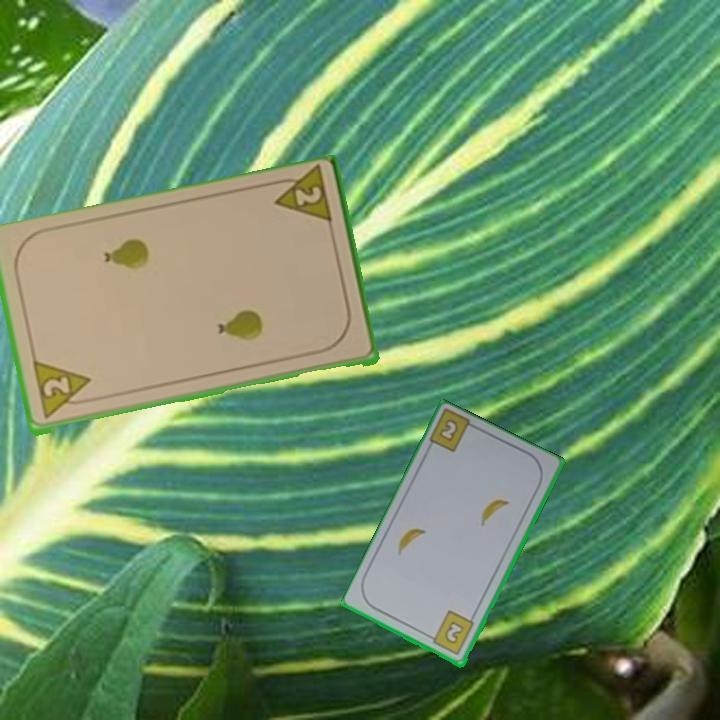2b: (425, 608, 477, 658), (438, 418, 459, 442)
2p: (266, 165, 335, 230), (29, 359, 97, 423)
